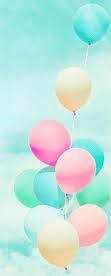Balloon: (54, 149, 96, 195), (38, 219, 79, 266), (29, 121, 70, 166), (67, 206, 107, 246), (73, 3, 111, 45), (55, 67, 91, 110), (35, 168, 71, 207)
